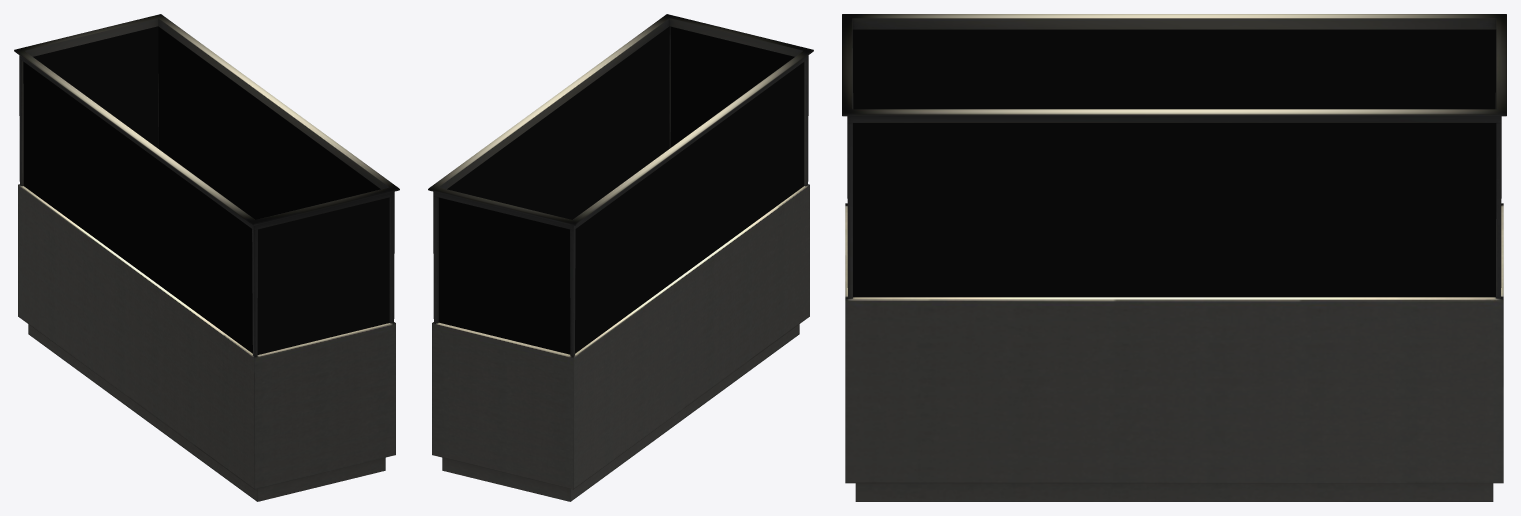
Rendered from DisplayCasesV2.fbx.
3 renders of one model, left to right at view 1: azimuth 30°, elevation 25°; view 2: azimuth 150°, elevation 25°; view 3: azimuth 270°, elevation 25°, orthographic. The views are drawn at different scales.
Parts seen in each view (by area): view 1: Glass, DisplayCaseWood; view 2: Glass, DisplayCaseWood; view 3: Glass, DisplayCaseWood.
Part boxes in pixels (x1=…): Glass: x1=23, y1=26, x2=389, y2=354; DisplayCaseWood: x1=14, y1=14, x2=399, y2=501; Glass: x1=438, y1=26, x2=804, y2=354; DisplayCaseWood: x1=428, y1=14, x2=813, y2=501; Glass: x1=853, y1=29, x2=1496, y2=297; DisplayCaseWood: x1=842, y1=14, x2=1506, y2=501.
Bounding box in the file's own units: 141 × 261 × 398.
